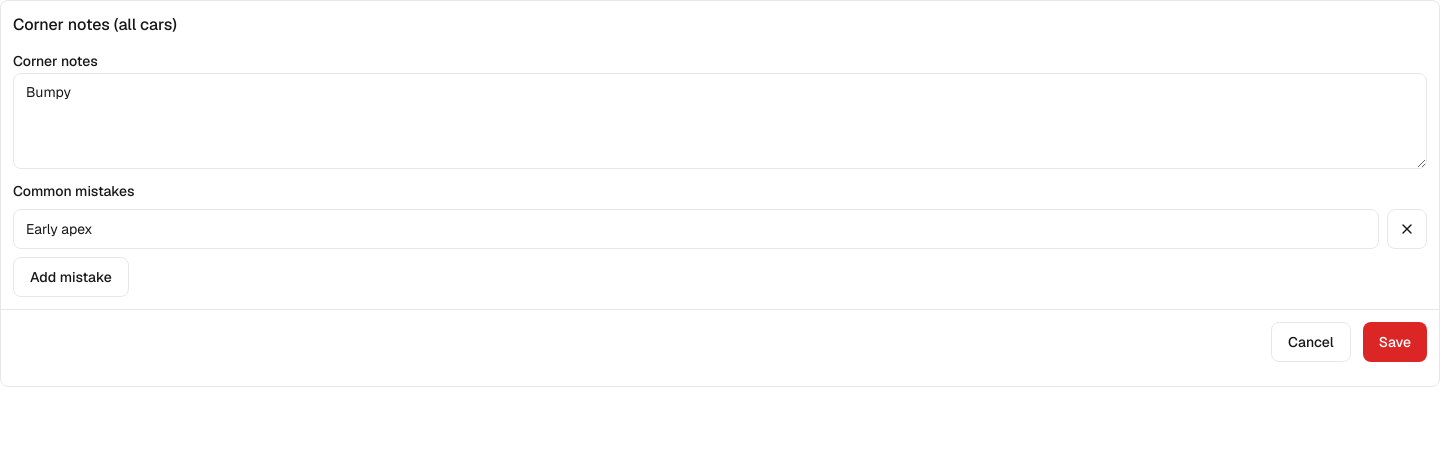
it: CornerNotesForm › drops empty mistakes and cancels back to the stored values
This screenshot has width=1440, height=452.
Click the button "Add mistake": (71, 277) [13,257,129,297]
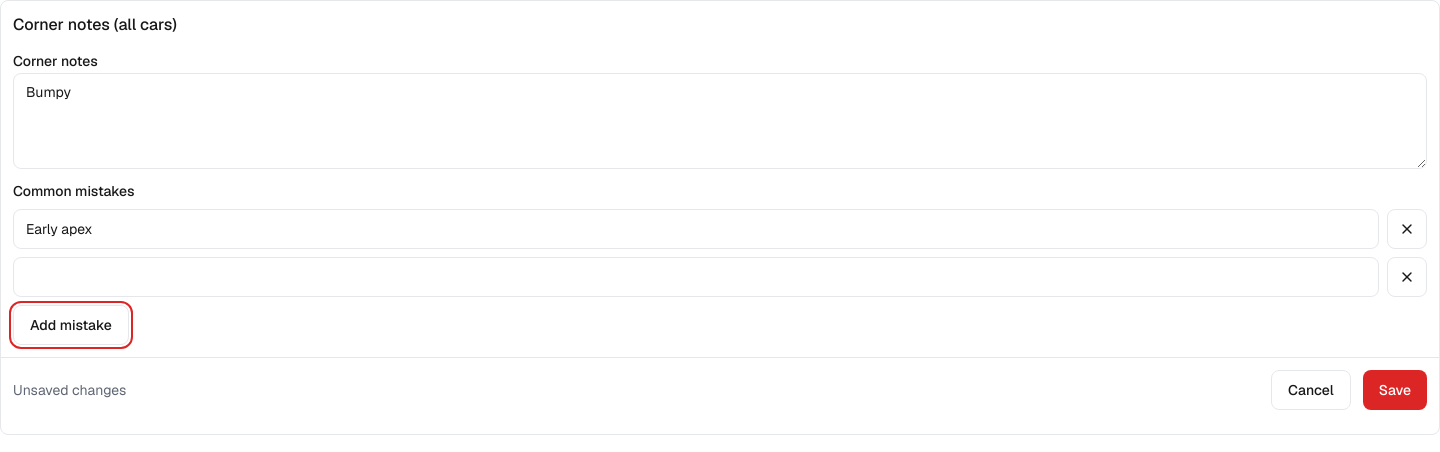
Click the button with aria-label "Save corner notes": (1395, 390) [1363,370,1427,410]
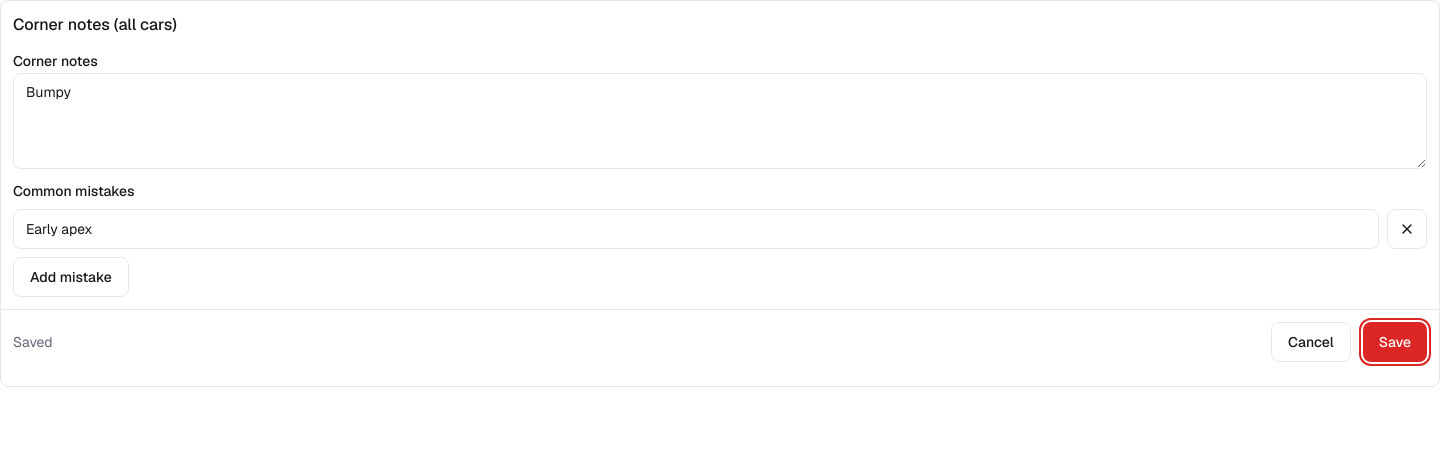
Clear the text box labelled "Corner notes": (720, 121) [13,73,1427,169]
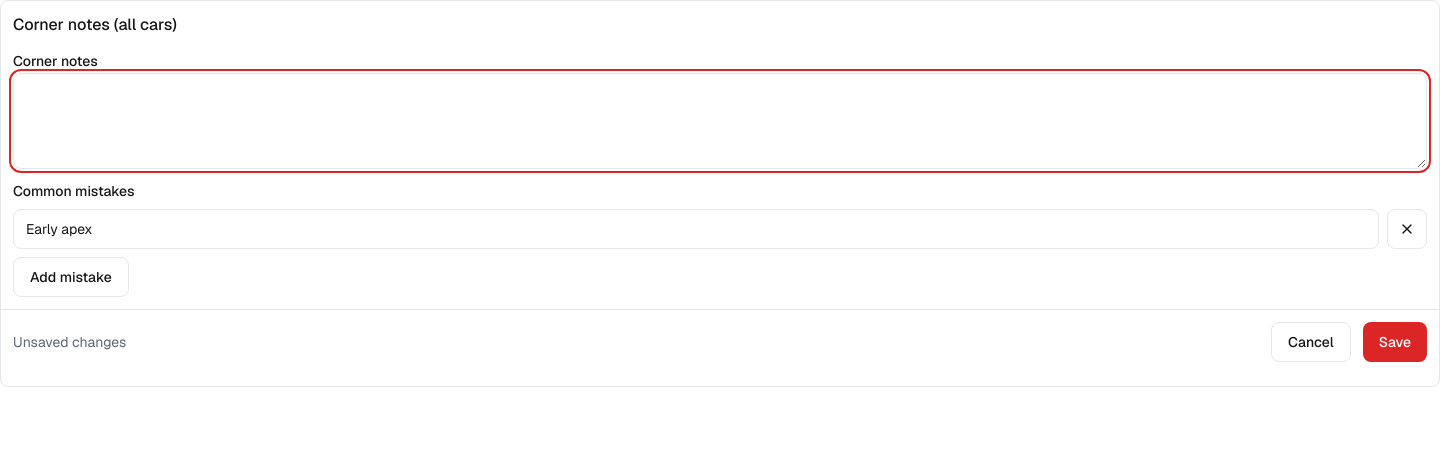
Click the button "Cancel": (1311, 342) [1271,322,1351,362]
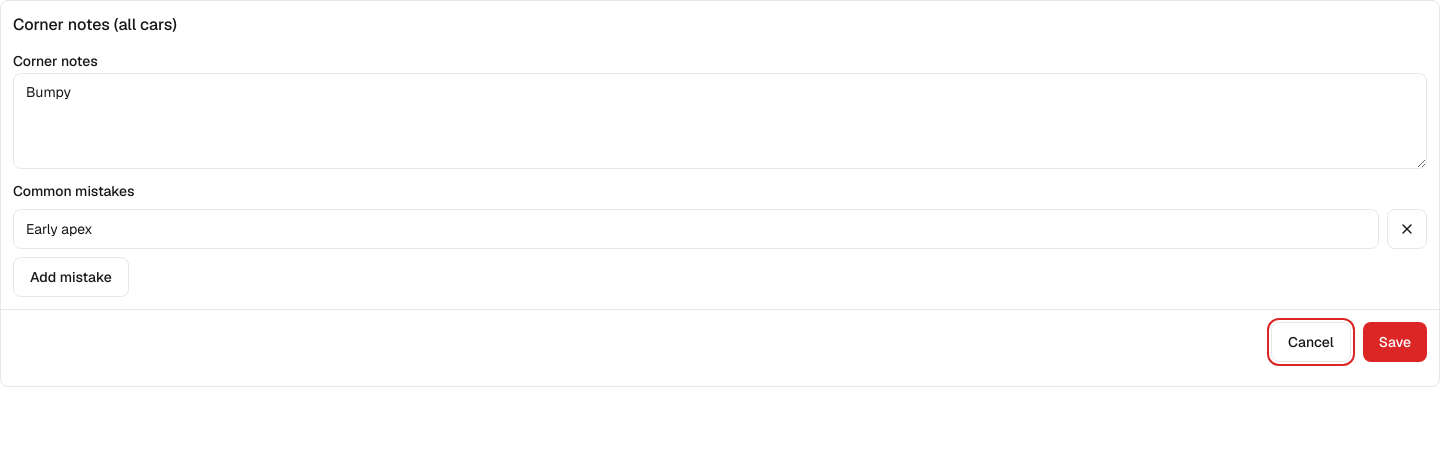
Expected: the text box labelled "Corner notes" holds "Bumpy", [13,73,1427,169]
